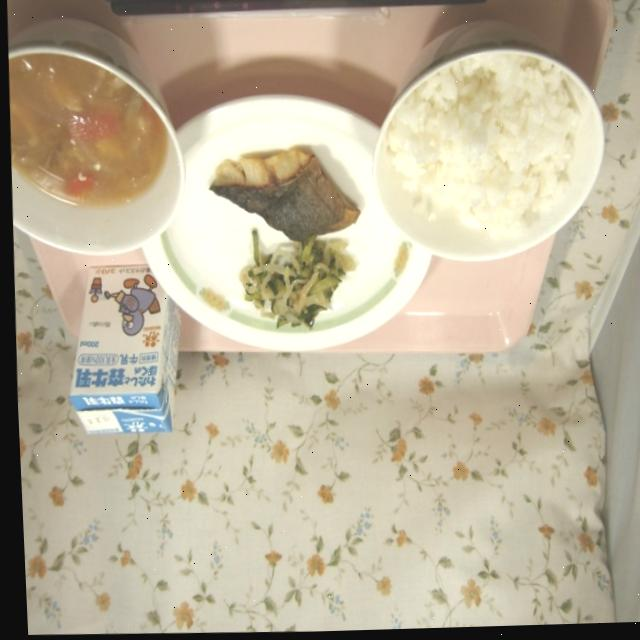米饭主食: (371, 35, 615, 264)
